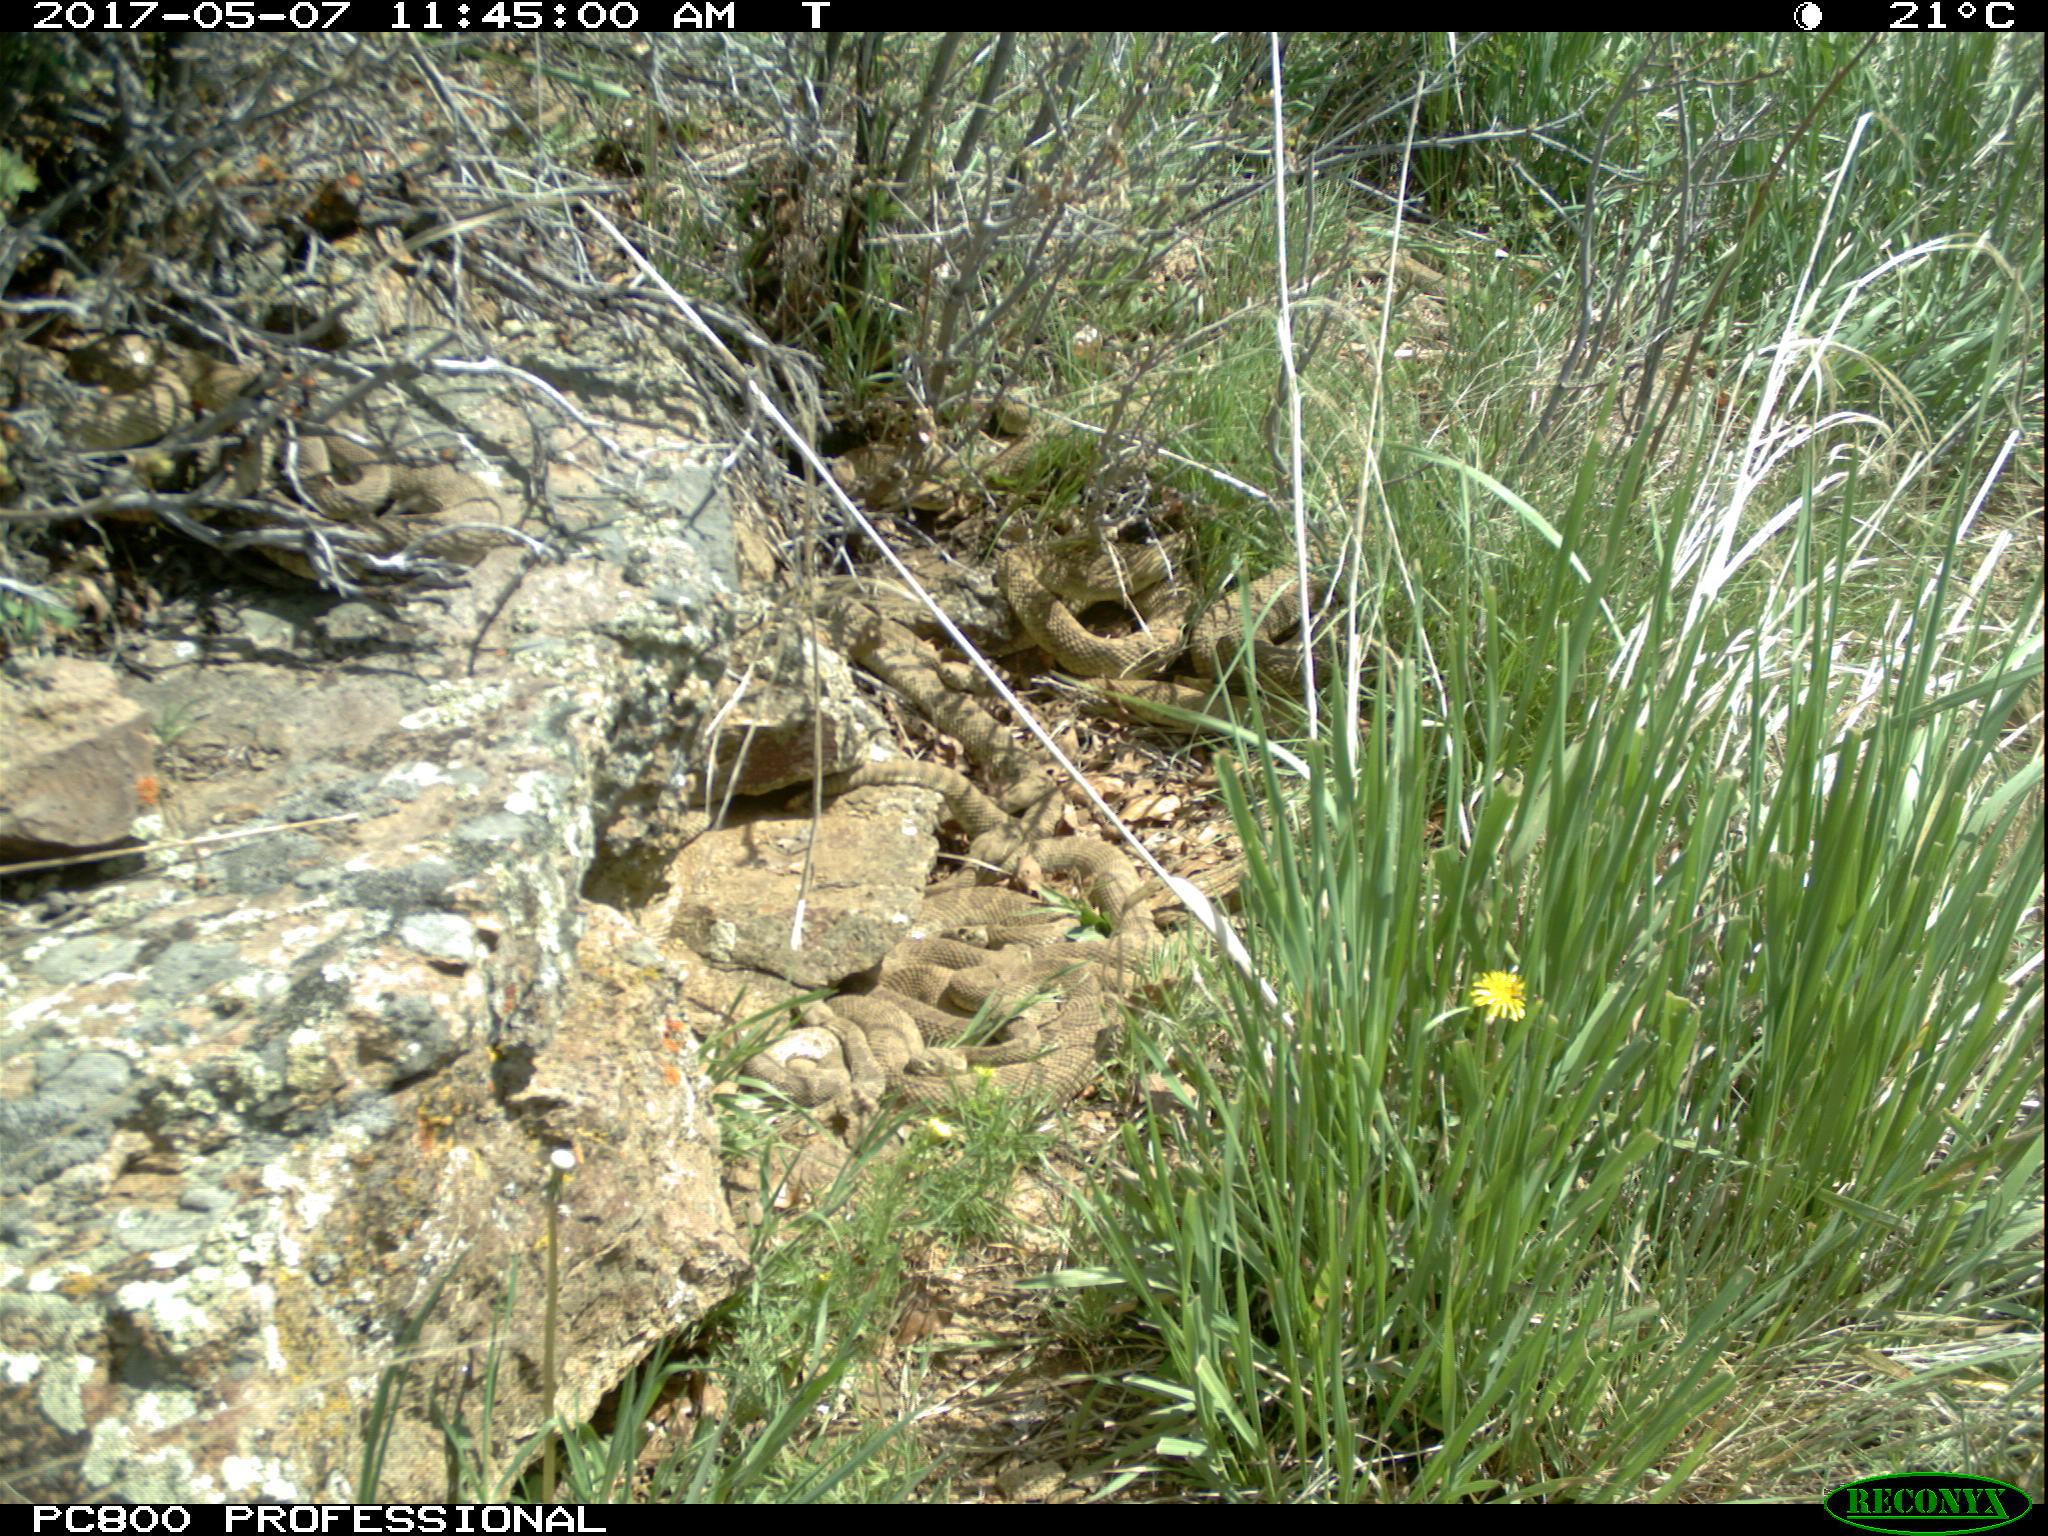snake: (48, 361, 503, 565), (853, 765, 1182, 975), (814, 576, 1068, 813), (758, 979, 1114, 1137), (987, 542, 1347, 692), (835, 415, 1103, 529)
